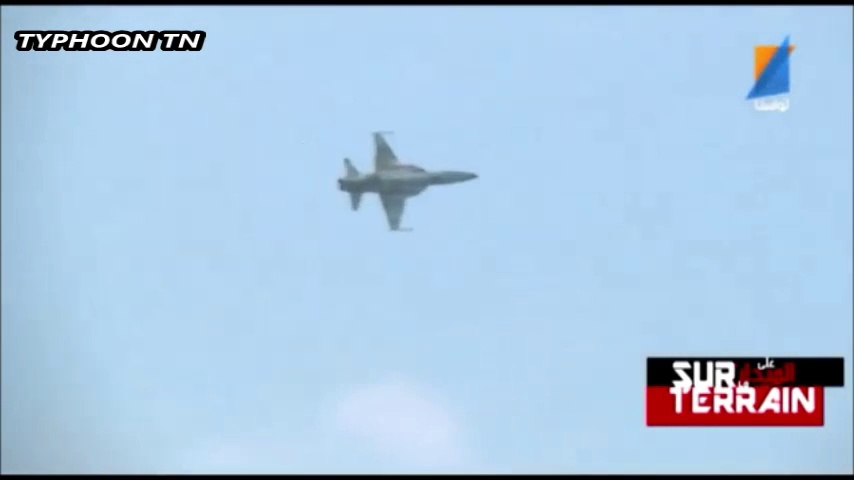Airplane: (333, 124, 478, 237)
